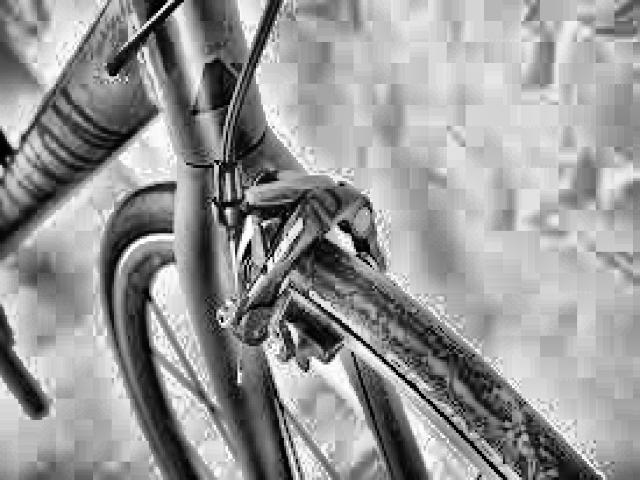rim_brake: (210, 157, 390, 373)
